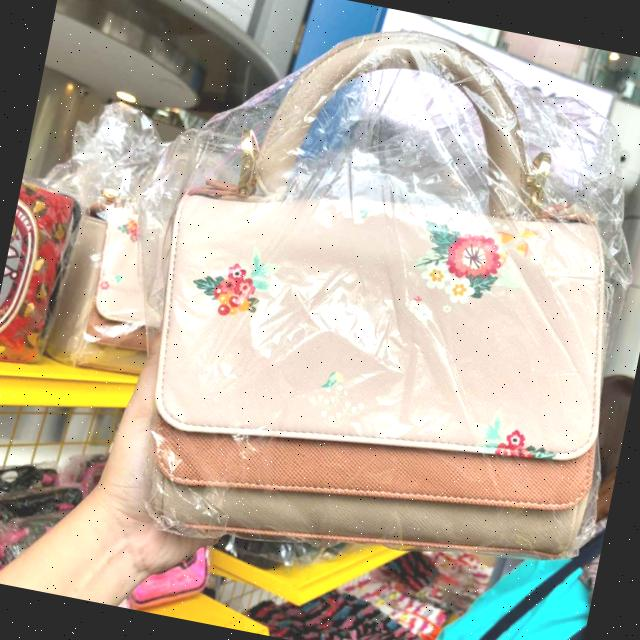handbag: (84, 119, 640, 620)
